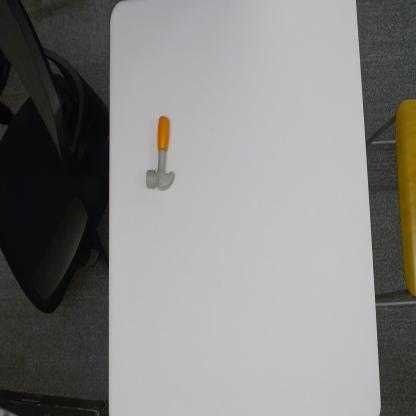Hammer: (144, 114, 175, 192)
